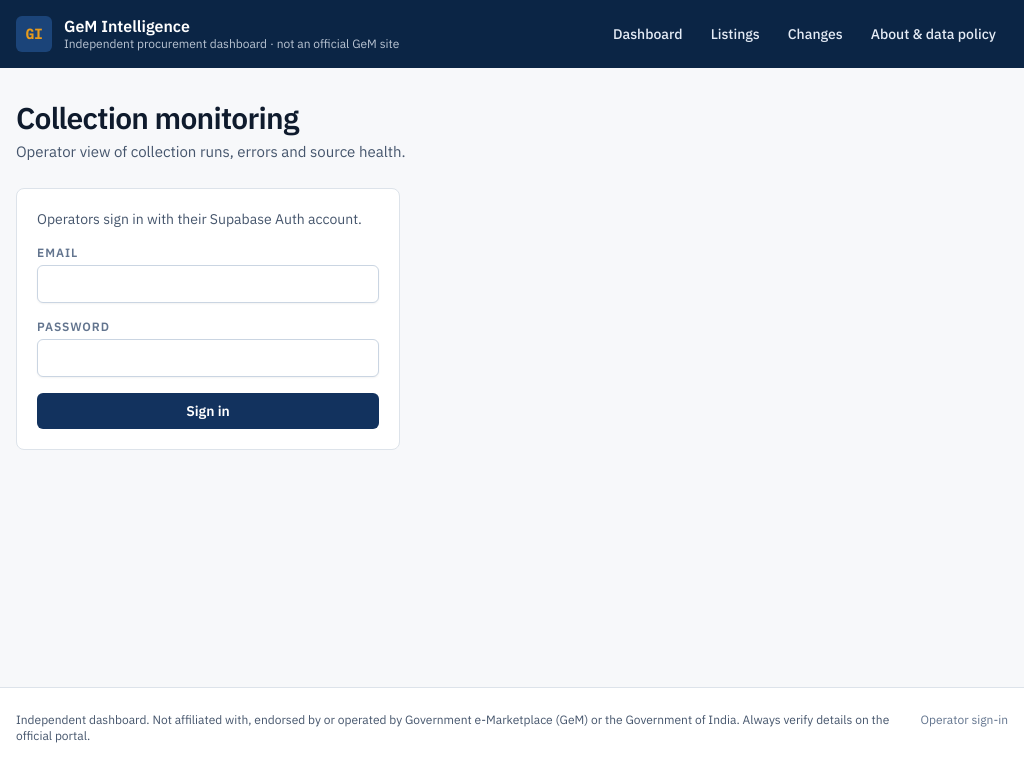
Test: admin monitoring › reports sign-in errors
Type "a@example.com" into the field labelled "Email" at (208, 284), box left=37, top=265, right=379, bottom=303
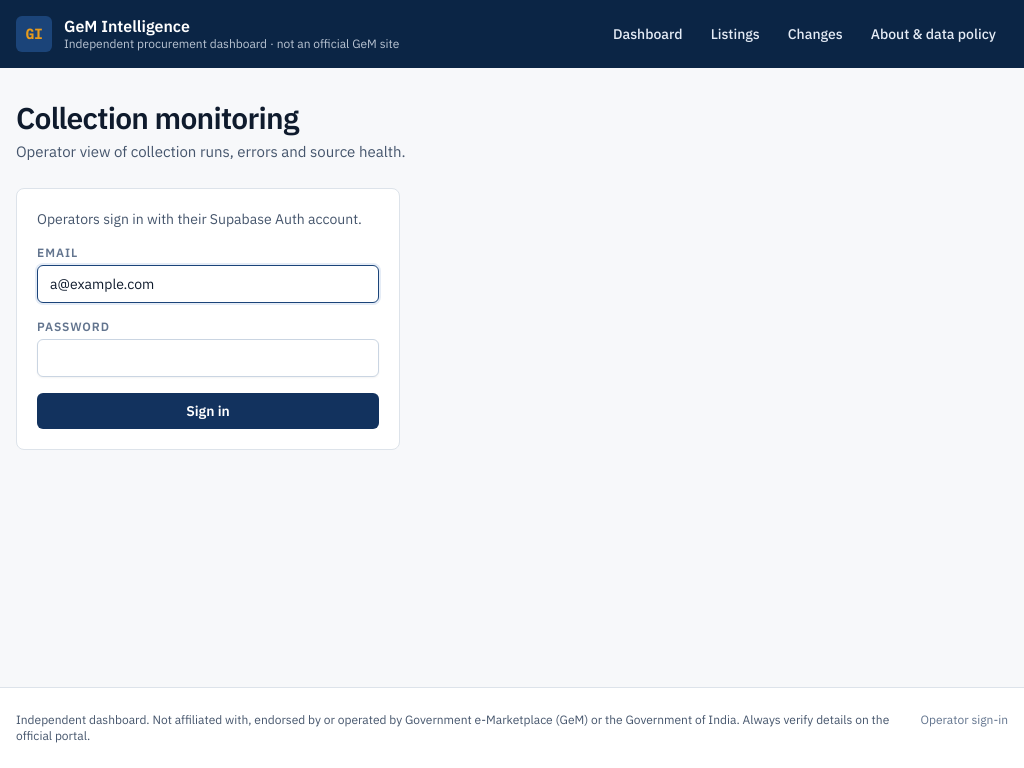
Type "wrong-password" into the password field labelled "Password" at (208, 358), box left=37, top=339, right=379, bottom=377
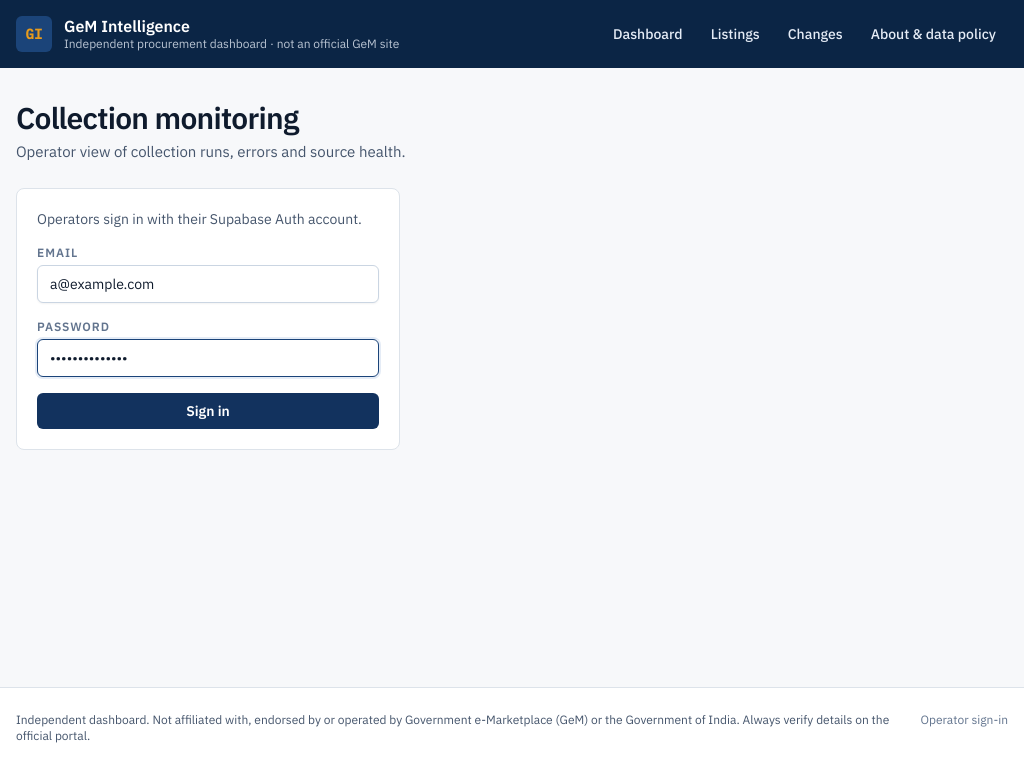
Click the button "Sign in" at (208, 411), box left=37, top=393, right=379, bottom=429
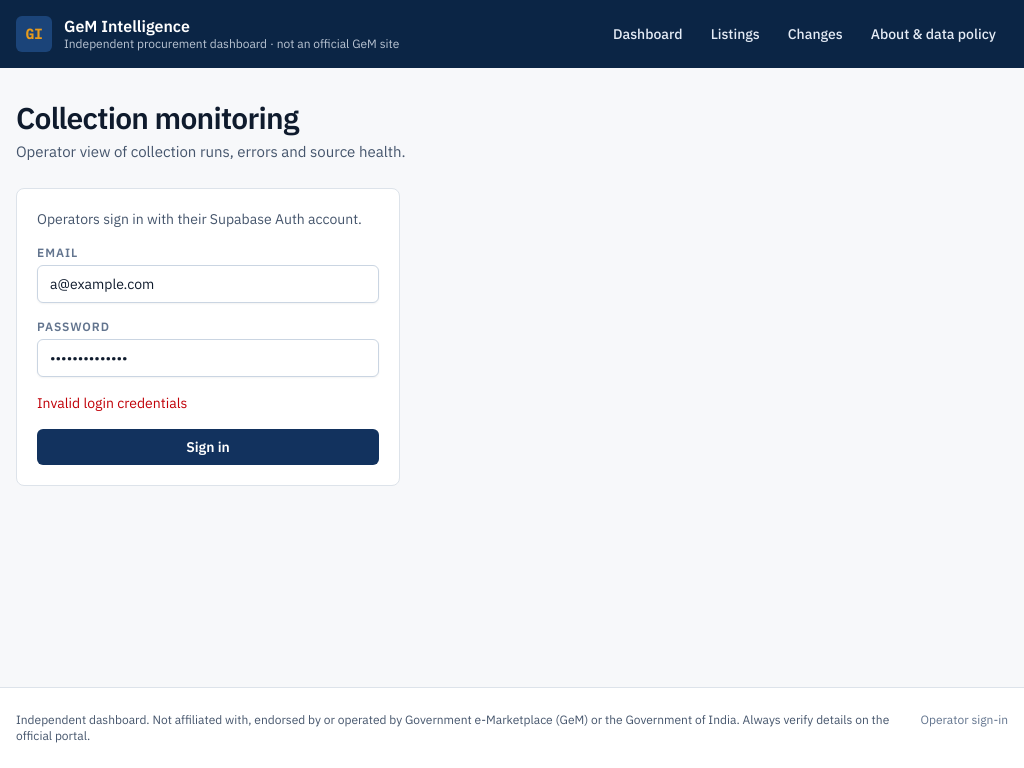
Result: the text "Invalid login credentials" is shown at left=37, top=394, right=187, bottom=412
